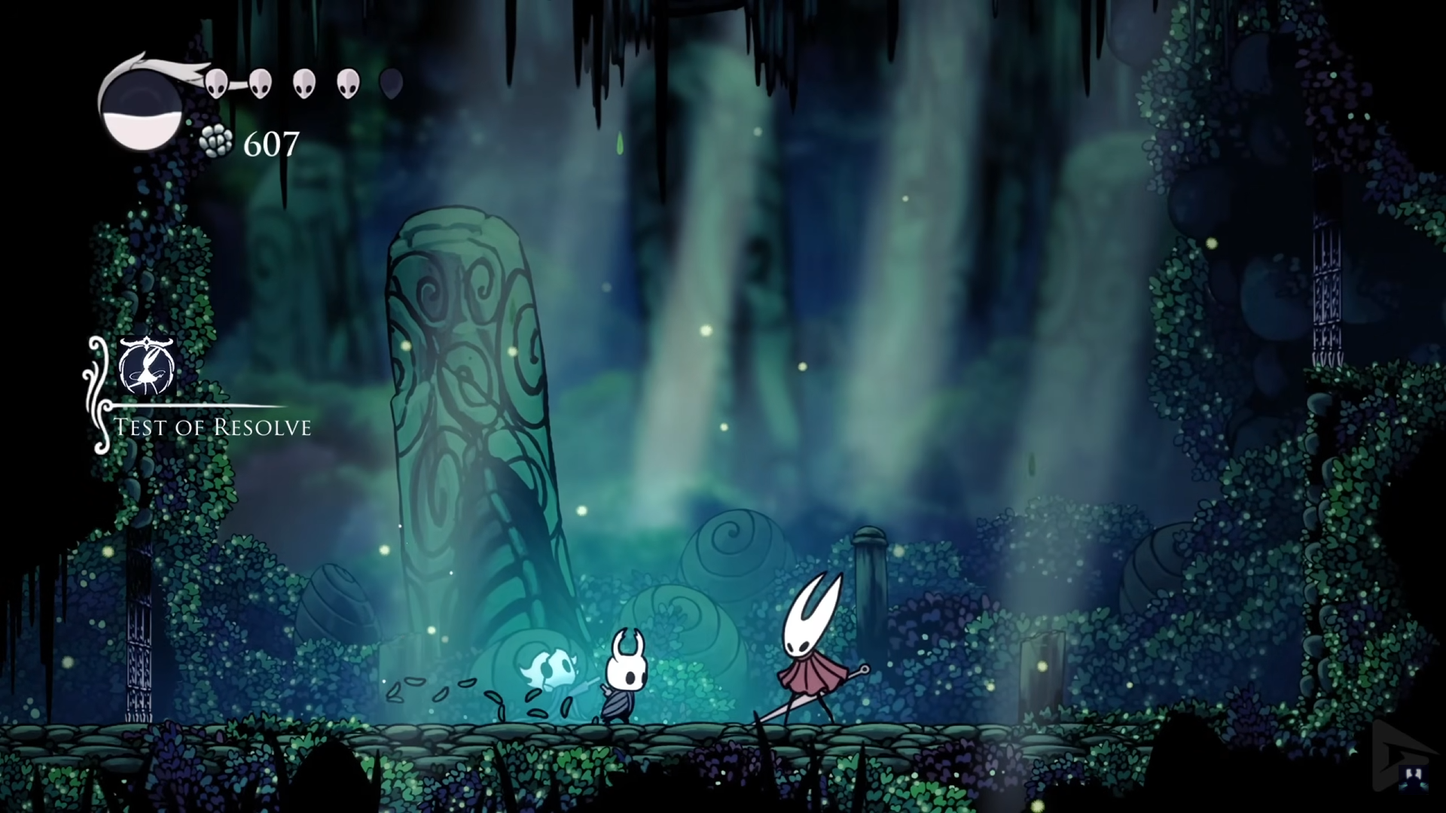HK: (593, 626, 655, 726)
